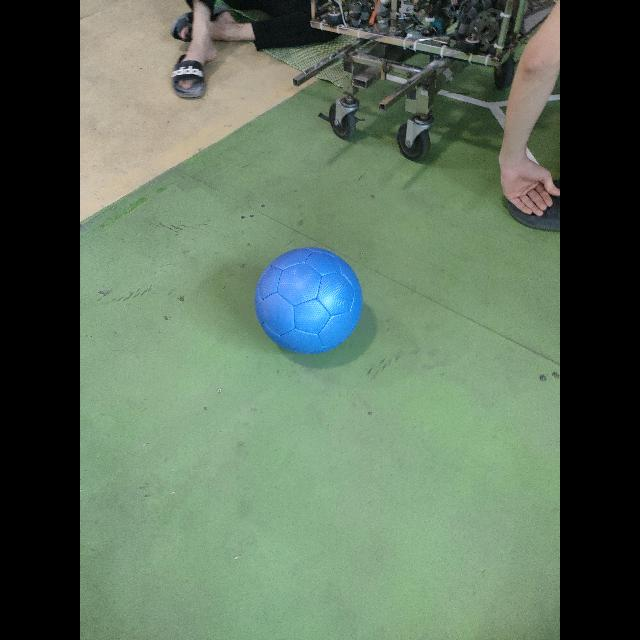B: (255, 248, 362, 354)
